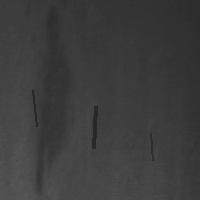inclusion: (33, 3, 76, 197), (30, 88, 38, 128), (91, 104, 97, 150), (148, 131, 154, 162)
